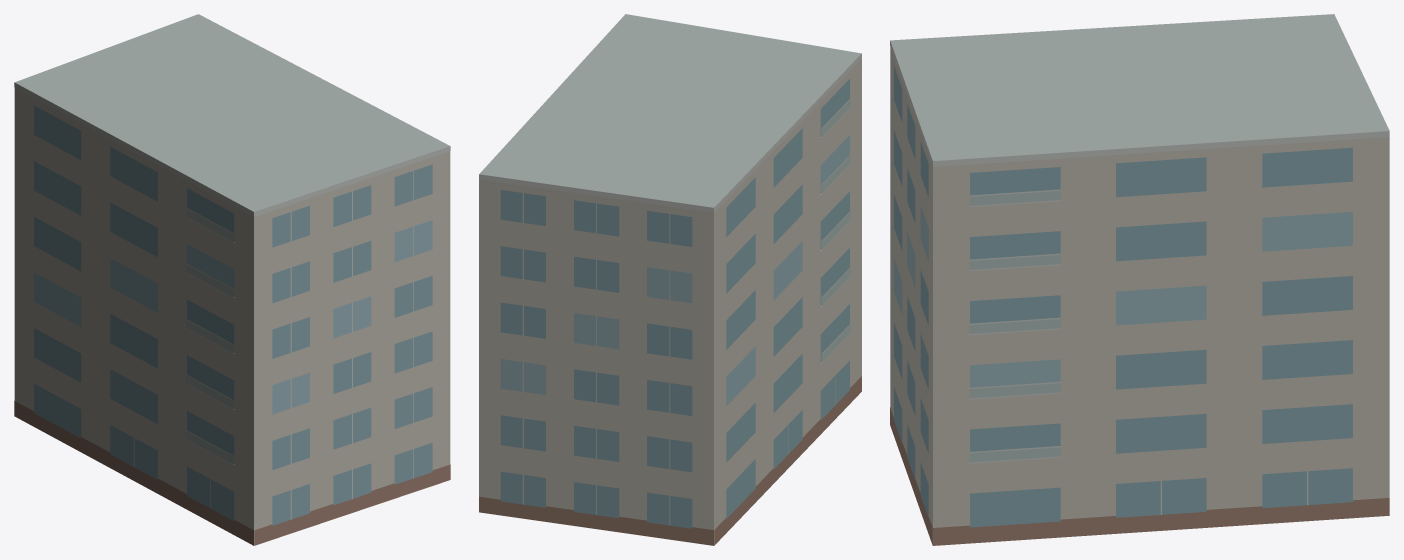
File: survey-upis-32575559.glb
3 renders of one model, left to right at view 1: azimuth 30°, elevation 25°; view 2: azimuth 150°, elevation 25°; view 3: azimuth 270°, elevation 25°, orthographic. The views are drawn at different scales.
Parts seen in each view (by area): view 1: survey-upis-32575559.tmp; view 2: survey-upis-32575559.tmp; view 3: survey-upis-32575559.tmp.
Boxes of the visible parts, x1=… form: survey-upis-32575559.tmp: x1=14, y1=14, x2=450, y2=545; survey-upis-32575559.tmp: x1=479, y1=14, x2=861, y2=545; survey-upis-32575559.tmp: x1=890, y1=14, x2=1389, y2=545.
Size of the model in its own units: 13.14 by 16 by 18.84.
